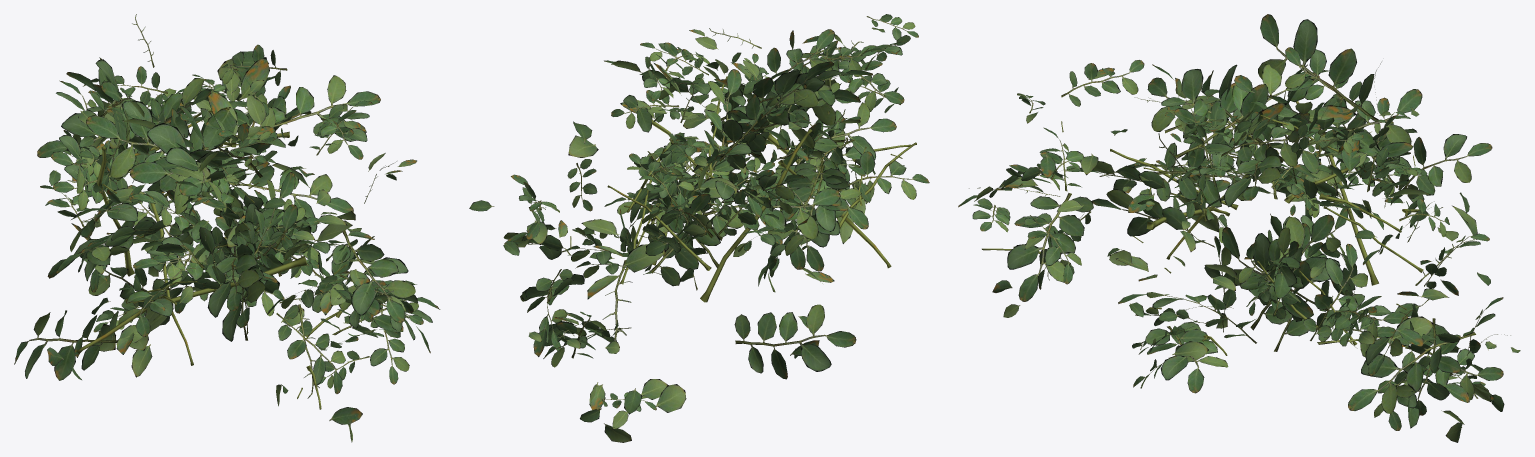
Rendered from tree_small_02_leaf.glb.
3 views of the same model, side by side, from view 1: azimuth 30°, elevation 25°; view 2: azimuth 150°, elevation 25°; view 3: azimuth 270°, elevation 25° (orthographic). The views are drawn at different scales.
Visible parts, largest first — view 1: tree_small_02_LOD0; view 2: tree_small_02_LOD0; view 3: tree_small_02_LOD0.
Boxes of the visible parts, x1,y1,x2,y2 form: tree_small_02_LOD0: [14, 14, 440, 442]; tree_small_02_LOD0: [469, 14, 929, 442]; tree_small_02_LOD0: [958, 14, 1520, 442].
Bounding box in the file's own units: 3.02 × 3.14 × 4.36.
Materials: 1 (1 with a texture image).
